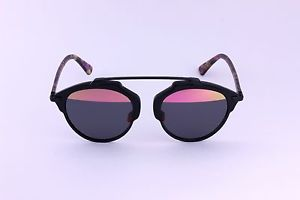sunglasses: (40, 51, 247, 152)
